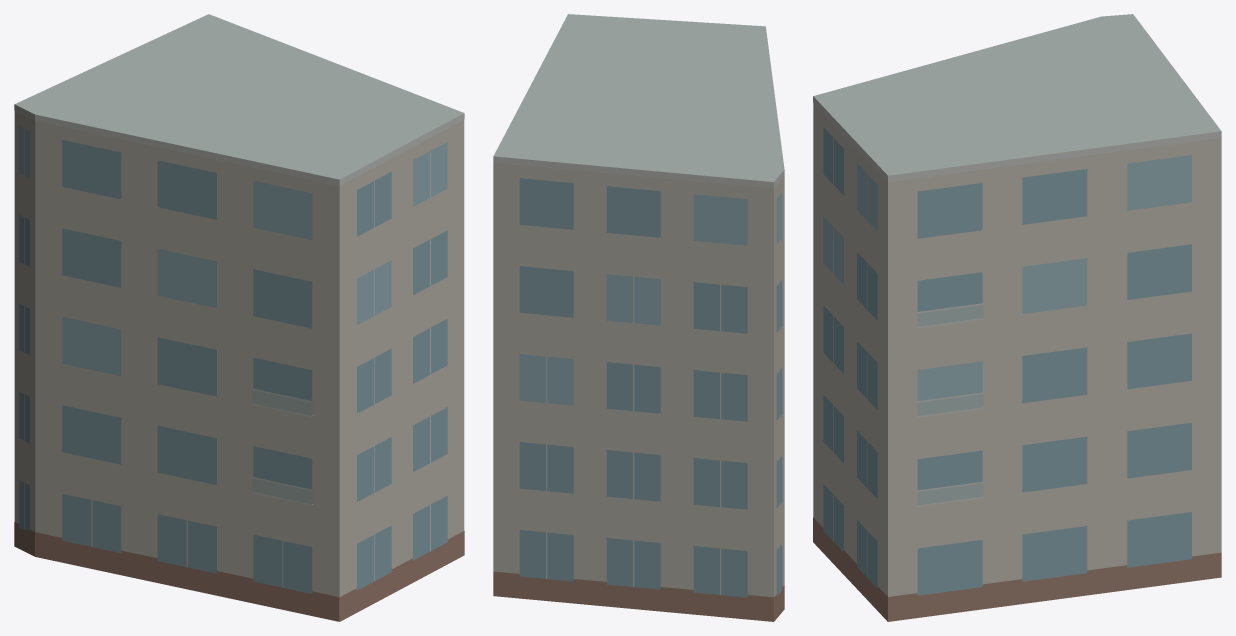
The model's file is survey-upis-32521143.glb.
The picture shows the model from 3 angles, left to right: view 1: azimuth 30°, elevation 25°; view 2: azimuth 150°, elevation 25°; view 3: azimuth 270°, elevation 25°; orthographic projection.
Visible parts, largest first — view 1: survey-upis-32521143.tmp; view 2: survey-upis-32521143.tmp; view 3: survey-upis-32521143.tmp.
Boxes of the visible parts, box(x1,y1,x2,y2) form: survey-upis-32521143.tmp: box(14, 14, 464, 621); survey-upis-32521143.tmp: box(493, 14, 784, 621); survey-upis-32521143.tmp: box(813, 14, 1221, 621).
Size of the model in its own units: 13.13 by 16.88 by 14.02.
